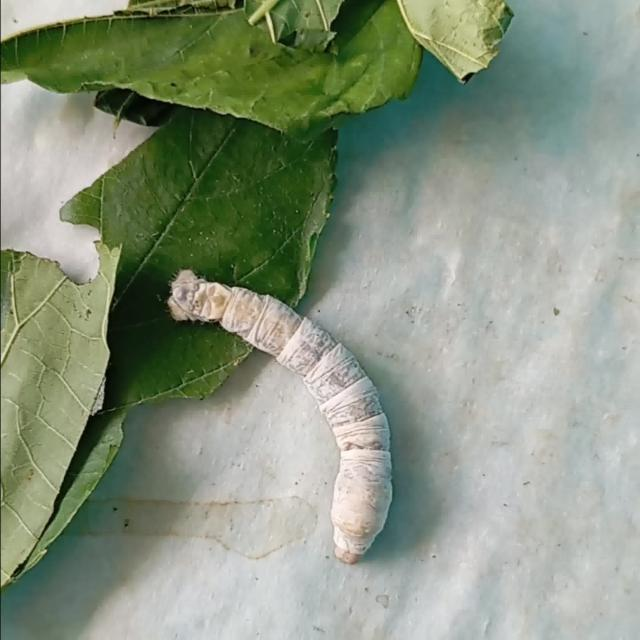Grasserie: (147, 239, 427, 578)
